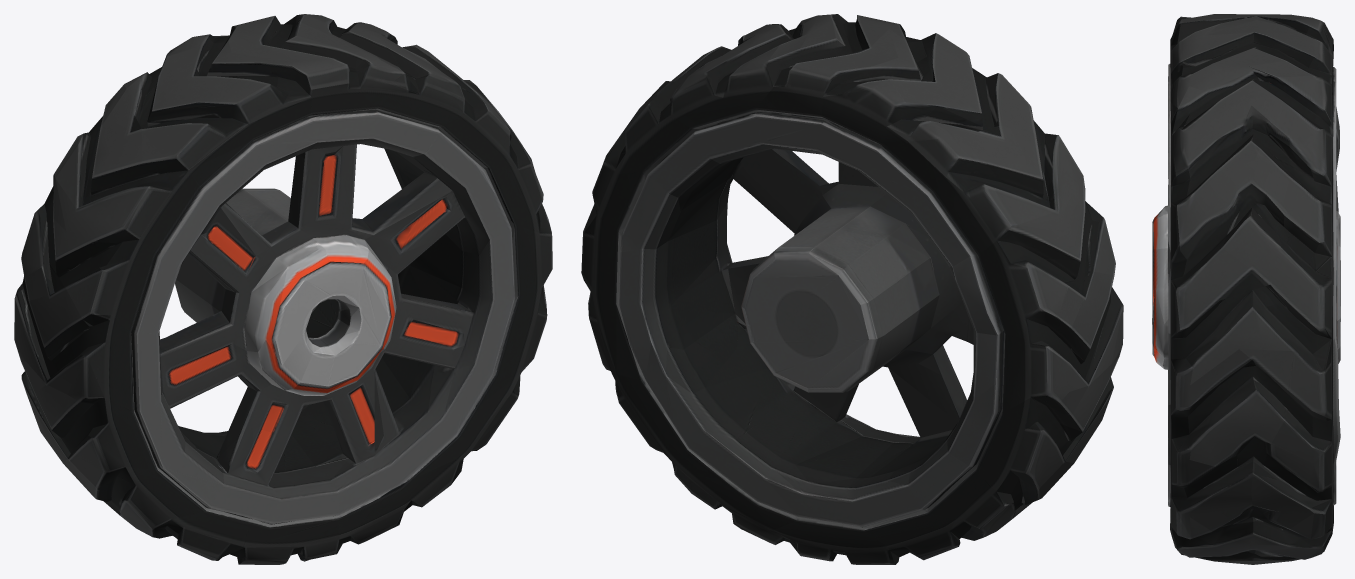
File: wheel_assault.glb
The picture shows the model from 3 angles, left to right: view 1: azimuth 30°, elevation 25°; view 2: azimuth 150°, elevation 25°; view 3: azimuth 270°, elevation 25°; orthographic projection.
Visible parts, largest first — view 1: output_unwrapped; view 2: output_unwrapped; view 3: output_unwrapped.
Part boxes in pixels (x1=…): output_unwrapped: x1=14, y1=14, x2=552, y2=564; output_unwrapped: x1=581, y1=14, x2=1123, y2=564; output_unwrapped: x1=1152, y1=14, x2=1340, y2=564.
Size of the model in its own units: 1.9 by 1.9 by 0.6564.
Materials: 1 (1 with a texture image).
